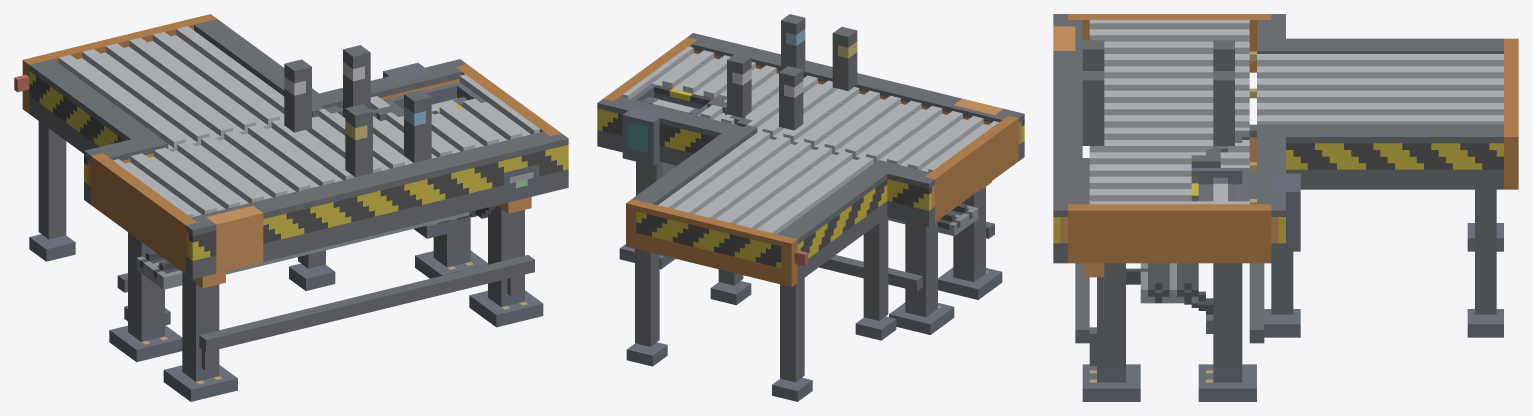
The model's file is conveyor_merge.glb.
The picture shows the model from 3 angles, left to right: view 1: azimuth 30°, elevation 25°; view 2: azimuth 150°, elevation 25°; view 3: azimuth 270°, elevation 25°; orthographic projection. The views are drawn at different scales.
Visible parts, largest first — view 1: frame; view 2: frame; view 3: frame, transfer.
Part boxes in pixels (x1=…): frame: x1=14, y1=14, x2=568, y2=401; frame: x1=597, y1=14, x2=1024, y2=401; frame: x1=1053, y1=14, x2=1518, y2=401; transfer: x1=1198, y1=177, x2=1242, y2=201.
Bounding box in the file's own units: 2 × 1.25 × 2.
